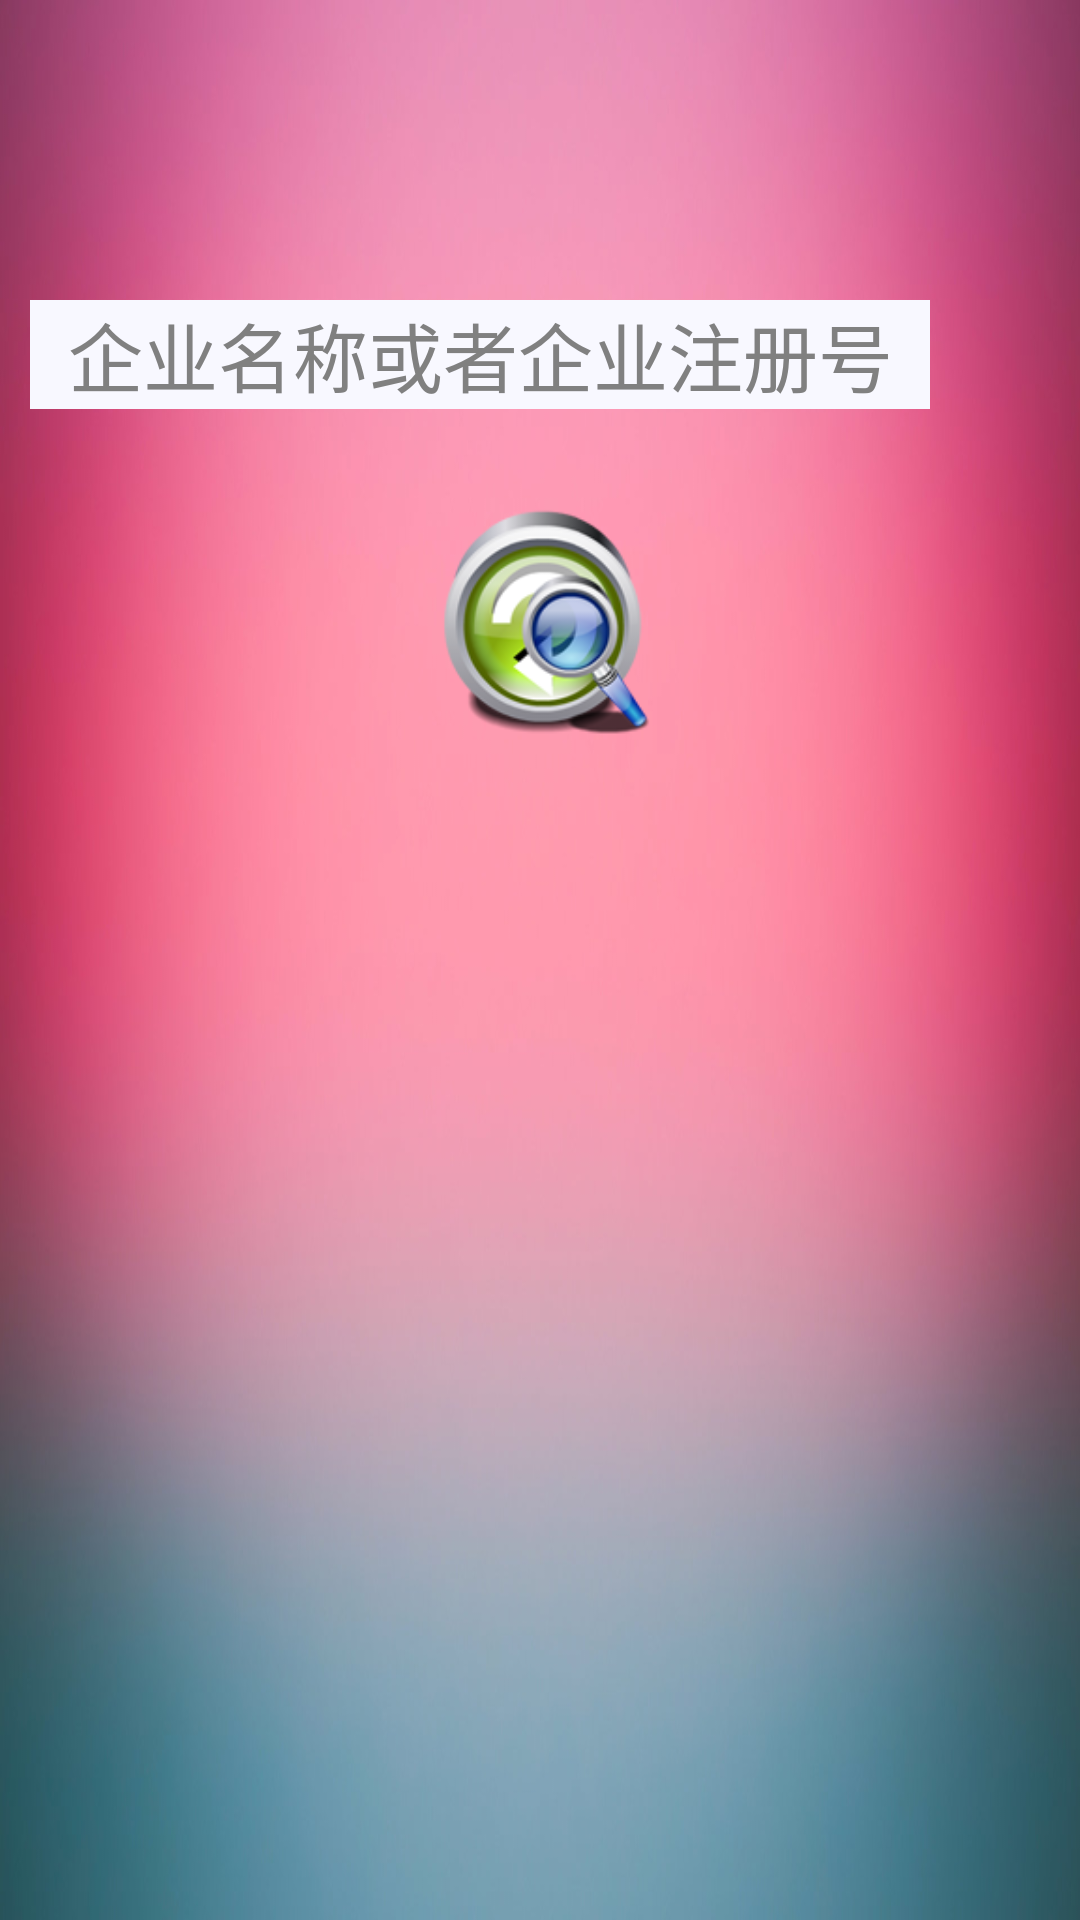

Icon bounding boxes for this 1080*1920 phone screenshot, format region(x1, y1, x2, y2):
activity aboveleft findbotton: region(444, 511, 649, 734)
